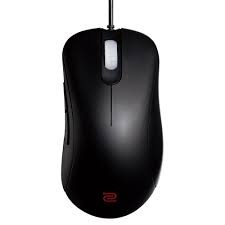mouse: (58, 23, 162, 218)
